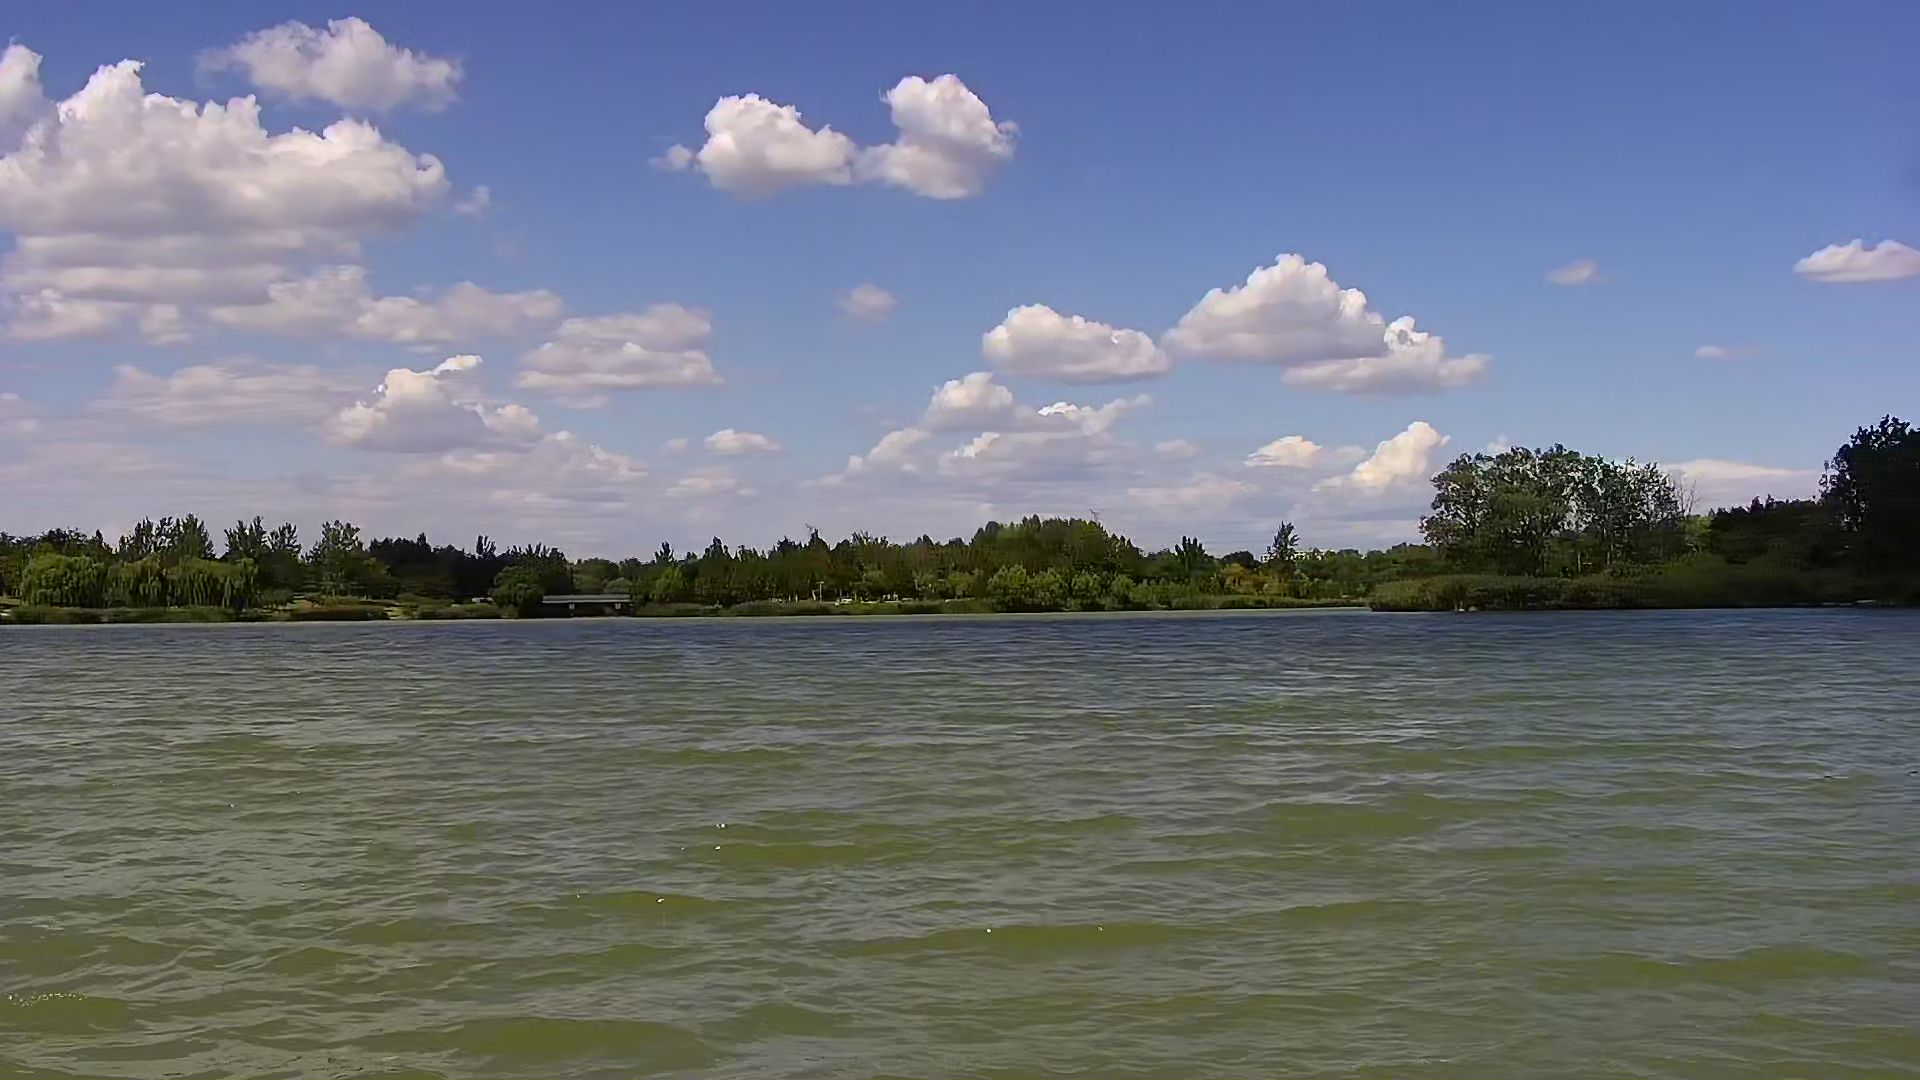bridge: (545, 591, 634, 626)
